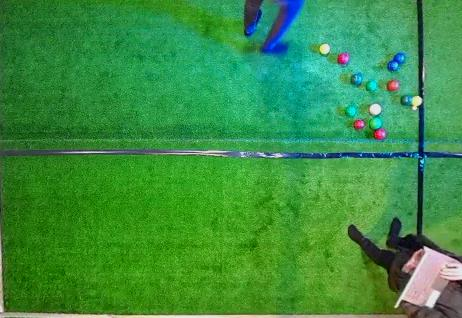blue: (387, 61, 400, 71), (394, 53, 405, 63)
green: (350, 74, 363, 86), (369, 118, 381, 129), (401, 95, 412, 106), (366, 81, 376, 91), (345, 107, 356, 116)
red: (386, 79, 400, 92), (337, 52, 349, 65), (374, 128, 386, 140), (369, 104, 382, 115), (354, 119, 365, 130)
vline: (416, 104, 461, 234), (416, 1, 461, 93), (0, 1, 8, 317)
white: (412, 106, 418, 110)
yellow: (319, 44, 330, 54), (412, 96, 422, 106)
